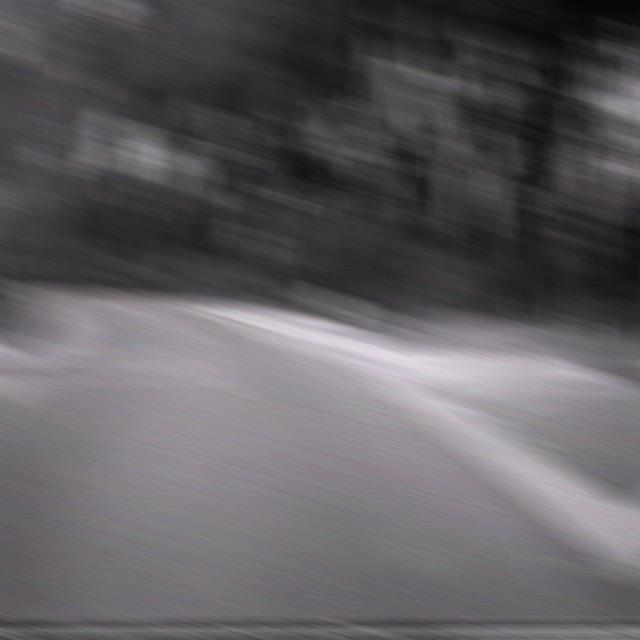stop: (578, 147, 619, 221)
